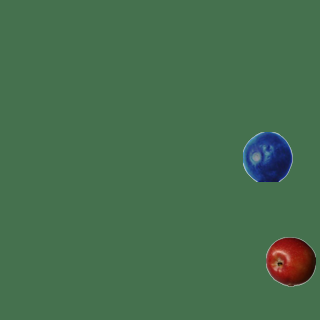Apple Braeburn: (265, 236, 315, 286)
Huckleberry: (242, 131, 292, 181)
